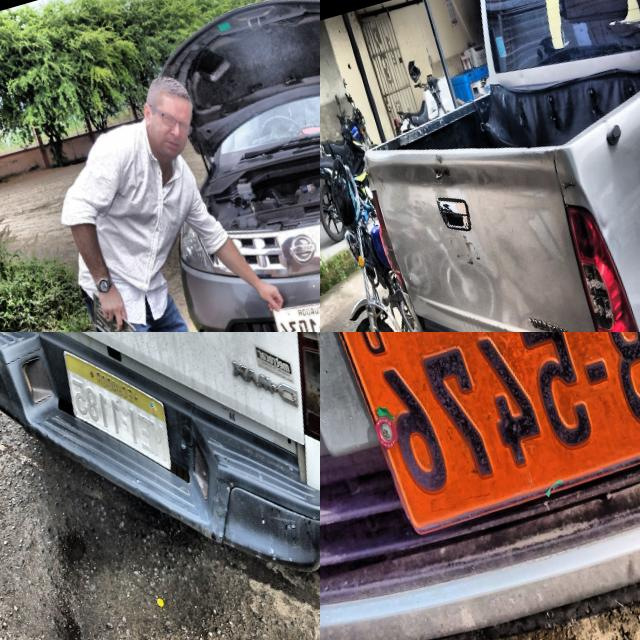license_plate: (320, 332, 640, 564), (61, 343, 173, 474), (267, 295, 320, 332)
